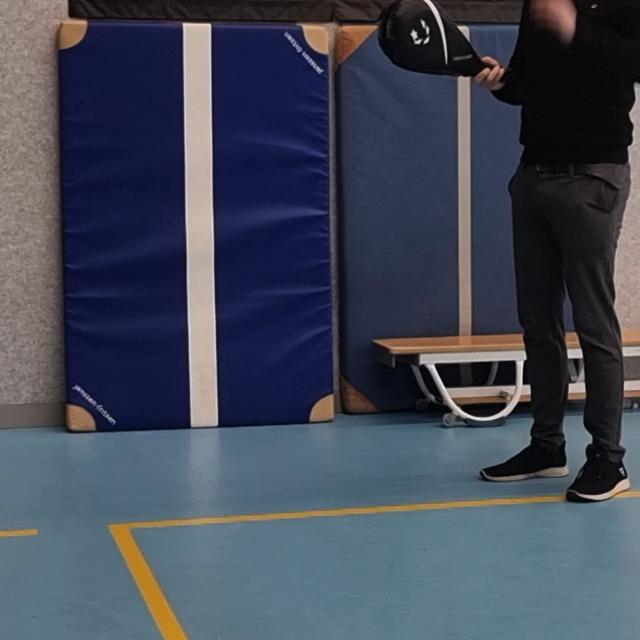paddle: (379, 0, 493, 77)
